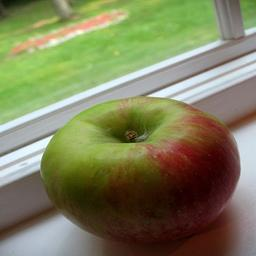apple: (38, 91, 241, 245)
